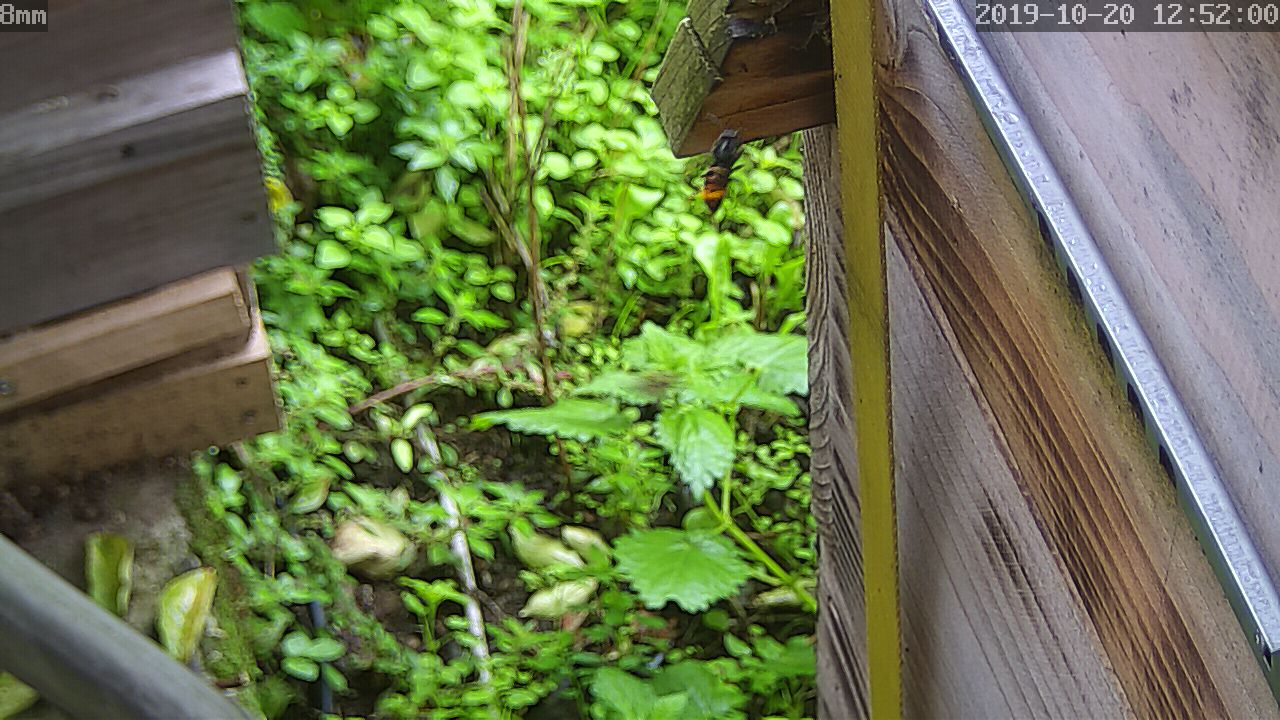hornet: (692, 125, 761, 224)
